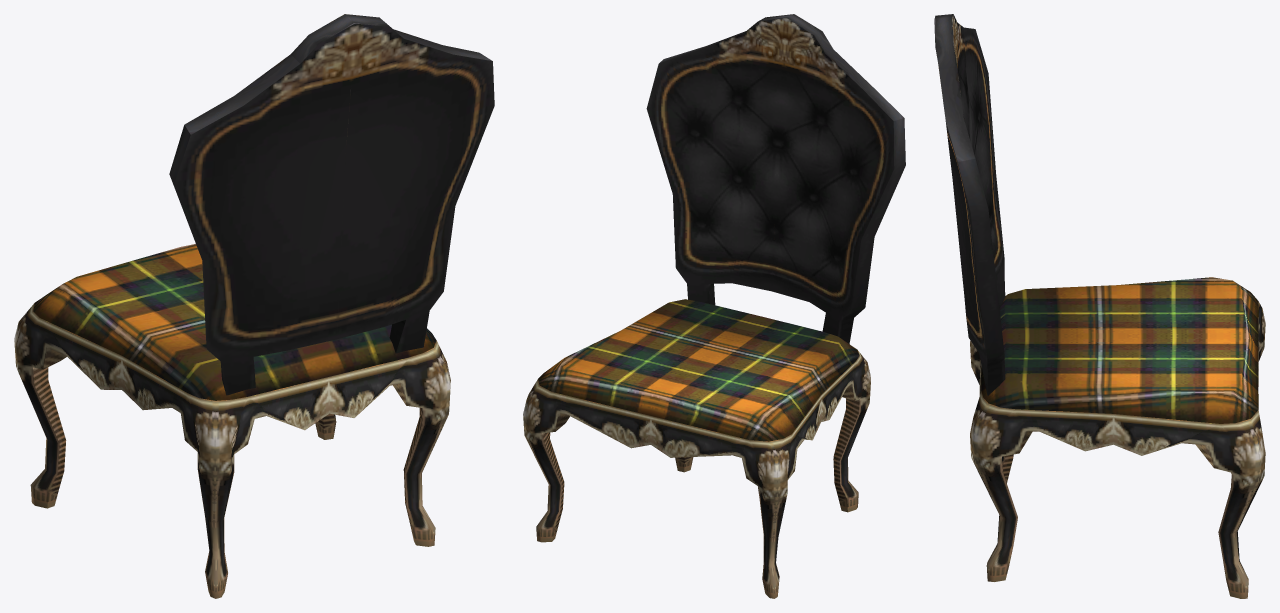
File: furni_0200312_03.FBX
The picture shows the model from 3 angles, left to right: view 1: azimuth 30°, elevation 25°; view 2: azimuth 150°, elevation 25°; view 3: azimuth 270°, elevation 25°; orthographic projection. The views are drawn at different scales.
Parts seen in each view (by area): view 1: furni_0200312_03; view 2: furni_0200312_03; view 3: furni_0200312_03.
Part boxes in pixels (x1=…): furni_0200312_03: x1=14, y1=14, x2=494, y2=598; furni_0200312_03: x1=523, y1=14, x2=905, y2=598; furni_0200312_03: x1=934, y1=14, x2=1265, y2=598.
Bounding box in the file's own units: 70.95 × 118 × 68.65.
